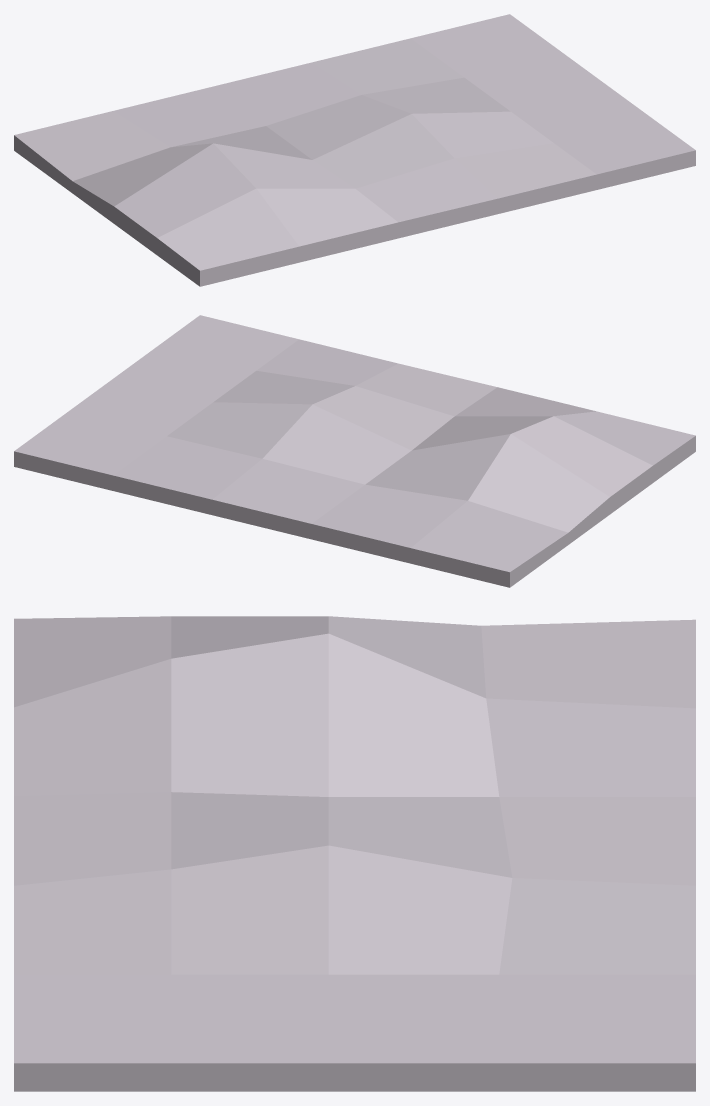
Rendered from snow_04.fbx.
The picture shows the model from 3 angles, top to bottom: view 1: azimuth 30°, elevation 25°; view 2: azimuth 150°, elevation 25°; view 3: azimuth 270°, elevation 25°; orthographic projection. The views are drawn at different scales.
Parts seen in each view (by area): view 1: Plane.020; view 2: Plane.020; view 3: Plane.020.
Boxes of the visible parts, x1,y1,x2,y2 form: Plane.020: (14,14,695,286); Plane.020: (14,315,695,587); Plane.020: (14,616,695,1091).
Size of the model in its own units: 1000 by 109 by 650.
